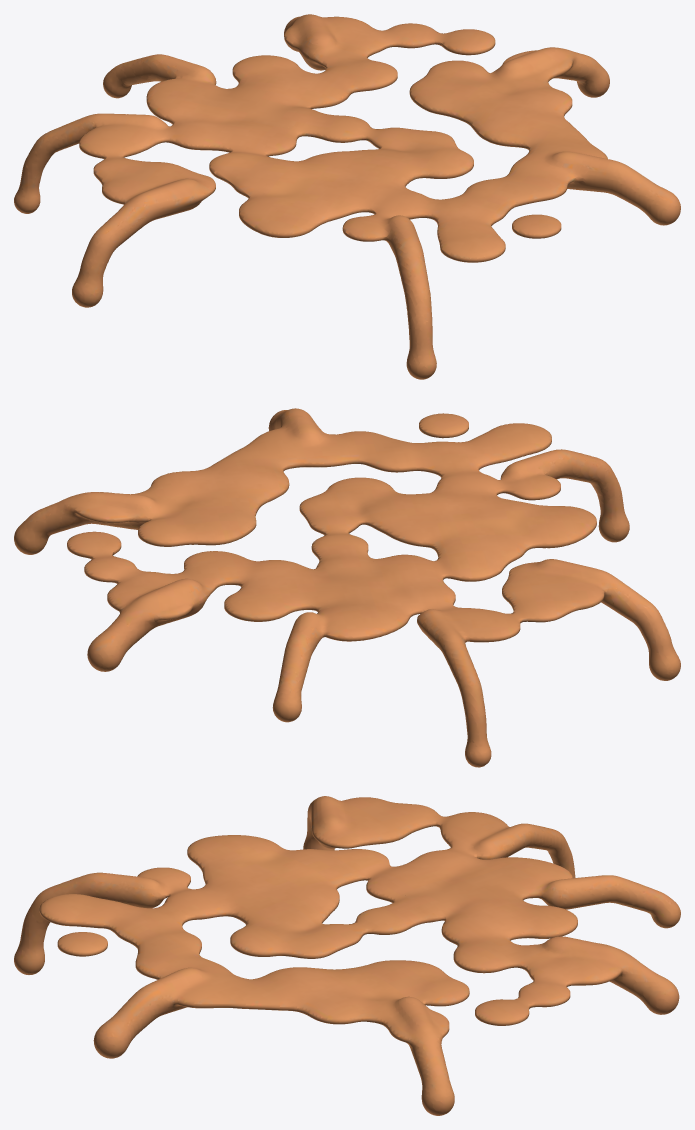
File: sauce_house.glb
3 renders of one model, top to bottom at view 1: azimuth 30°, elevation 25°; view 2: azimuth 150°, elevation 25°; view 3: azimuth 270°, elevation 25°, orthographic.
Parts seen in each view (by area): view 1: sauce_house_web; view 2: sauce_house_web; view 3: sauce_house_web.
Boxes of the visible parts, <box> form: sauce_house_web: <box>14,14,680,379</box>; sauce_house_web: <box>14,408,680,767</box>; sauce_house_web: <box>14,796,680,1115</box>.
Size of the model in its own units: 0.123 by 0.0225 by 0.1179.
1 material, 1 textured.
